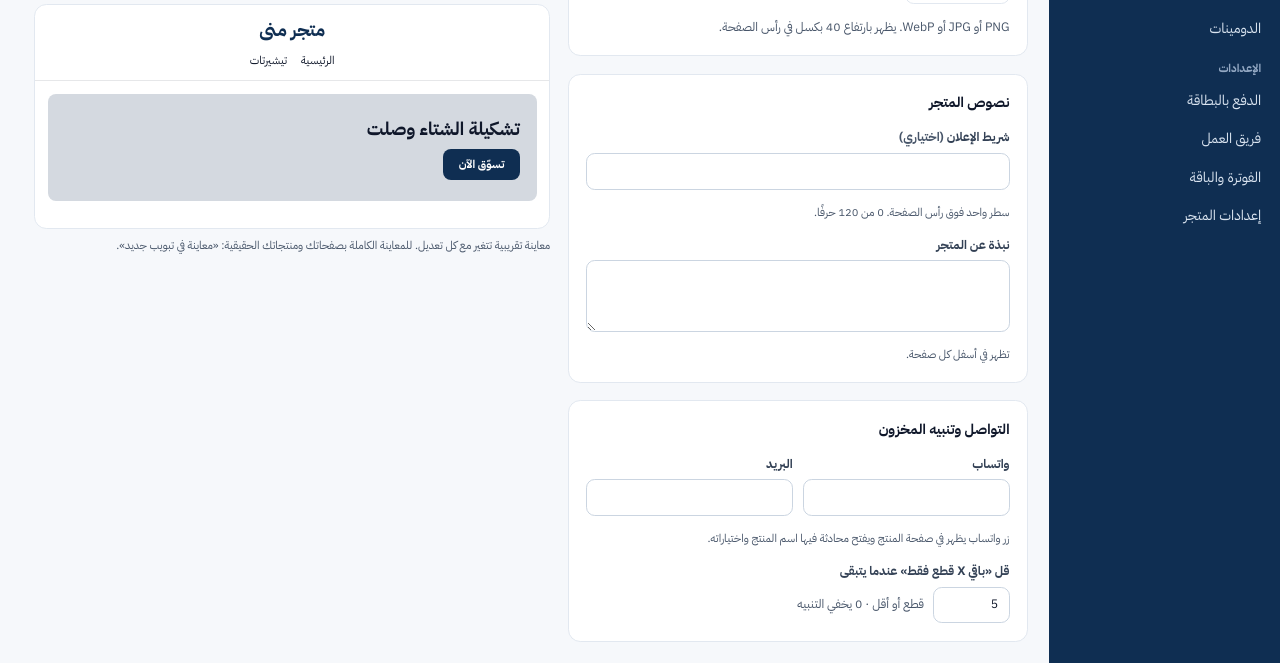
Test: Design › shows the field the server refused
The width and height of the screenshot is (1280, 663).
(page scrolled)
Type "12" into the field labelled "واتساب" at (906, 498), box x1=803 y1=479 x2=1010 y2=516
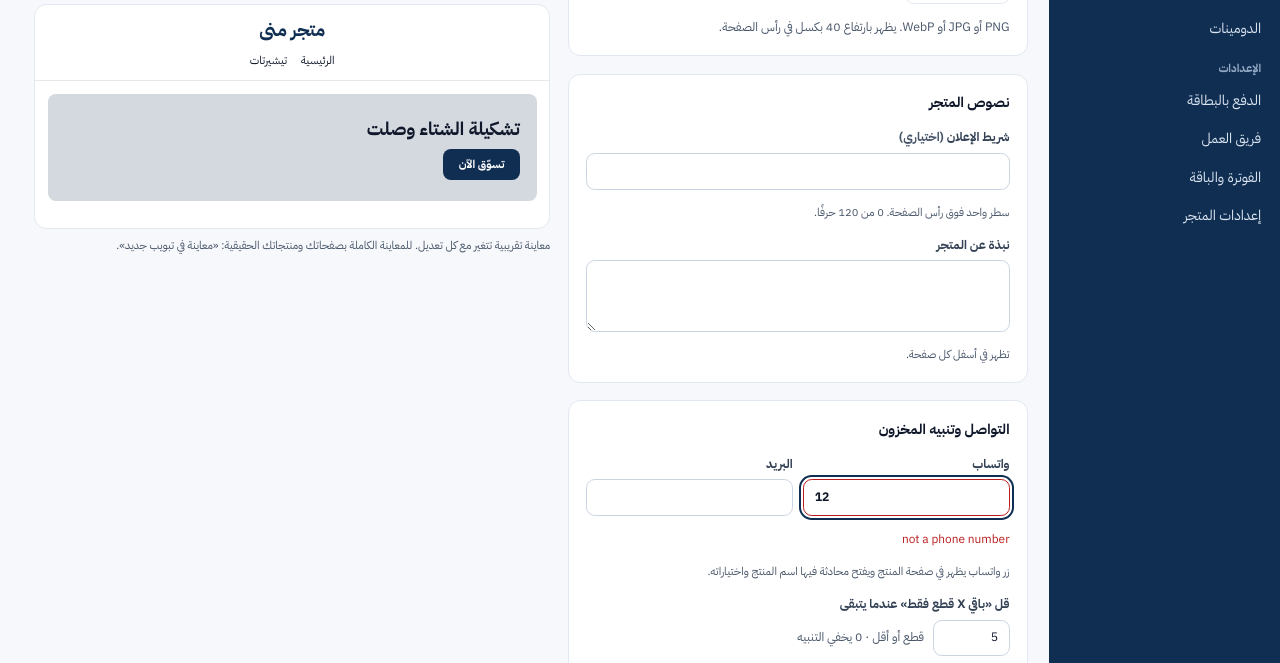
Expected: the text "not a phone number" is shown, x1=902 y1=530 x2=1010 y2=548
